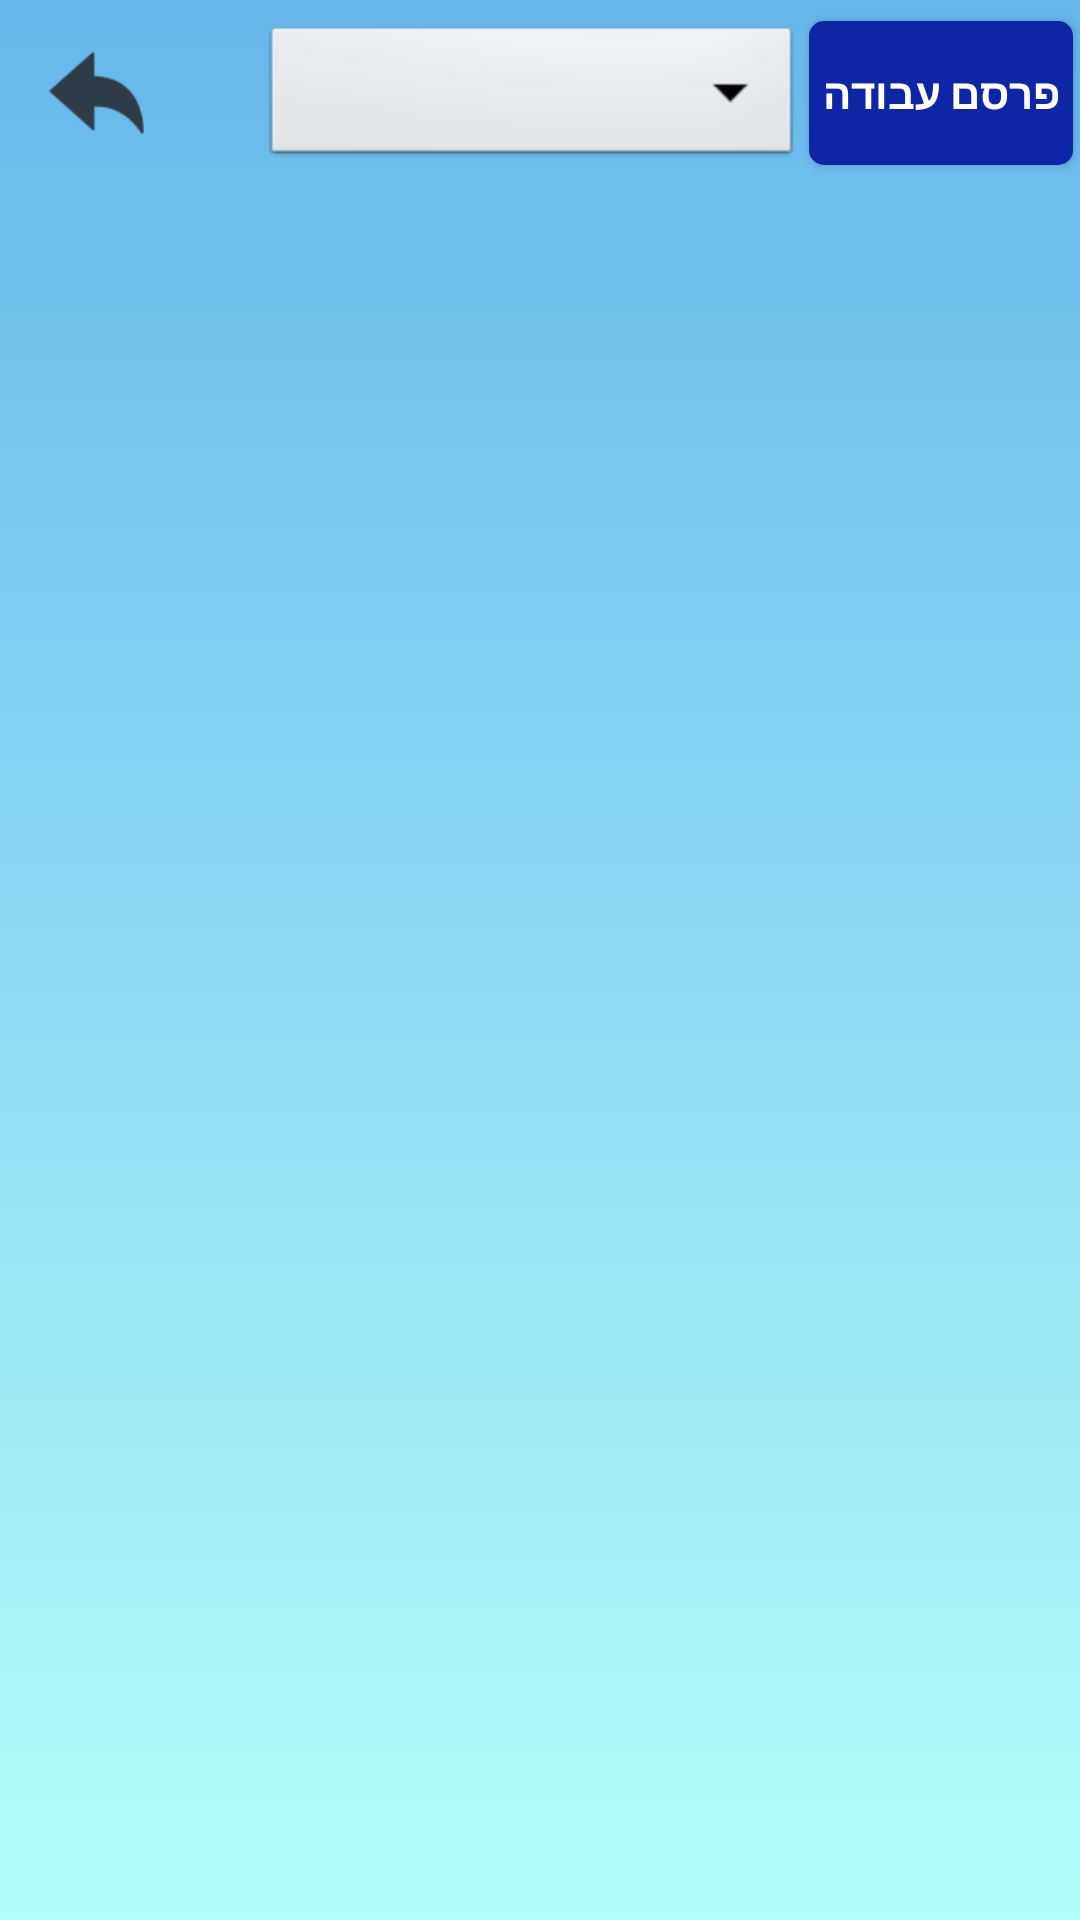

Where icons sit on this 1080 × 1920 app screen, as (x1, y1, x2, y2):
back button: (49, 52, 144, 134)
